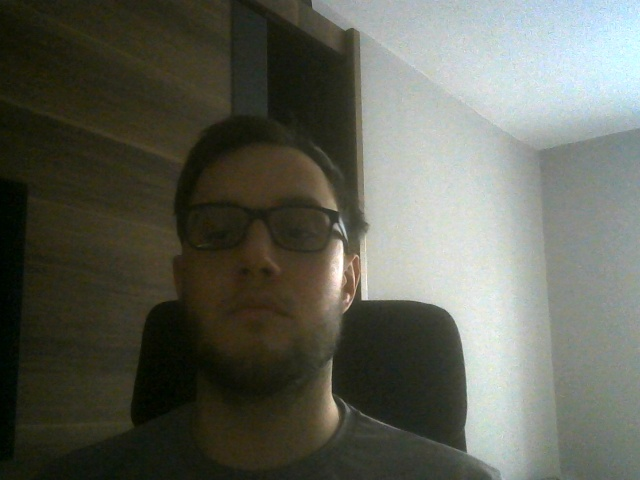neutral: (166, 113, 363, 395)
